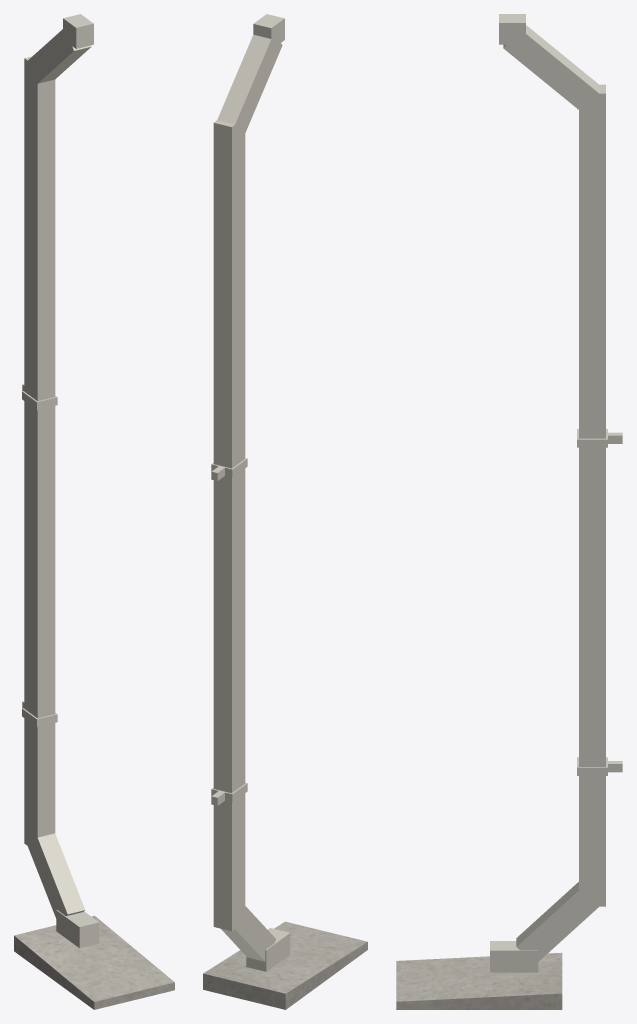
File: downspout_w.glb
3 renders of one model, left to right at view 1: azimuth 30°, elevation 25°; view 2: azimuth 150°, elevation 25°; view 3: azimuth 270°, elevation 25°, orthographic. The views are drawn at different scales.
Visible parts, largest first — view 1: downspout_w_gutter, downspout_w_concrete; view 2: downspout_w_gutter, downspout_w_concrete; view 3: downspout_w_gutter, downspout_w_concrete.
Boxes of the visible parts, <box> form: downspout_w_gutter: <box>22,14,99,948</box>; downspout_w_concrete: <box>14,915,174,1009</box>; downspout_w_gutter: <box>211,14,290,971</box>; downspout_w_concrete: <box>203,921,367,1009</box>; downspout_w_gutter: <box>490,14,622,972</box>; downspout_w_concrete: <box>396,952,562,1009</box>.
Size of the model in its own units: 0.32 by 3.55 by 0.75.
Materials: 2 (1 with a texture image).
